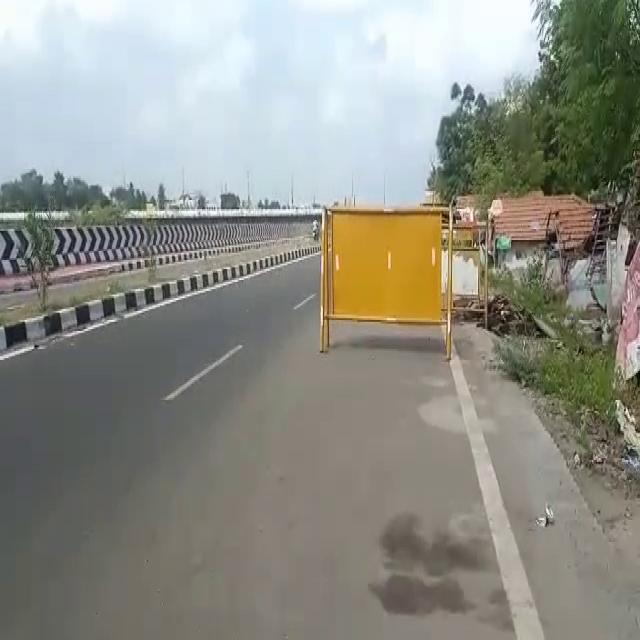fallen_object: (275, 176, 483, 377)
